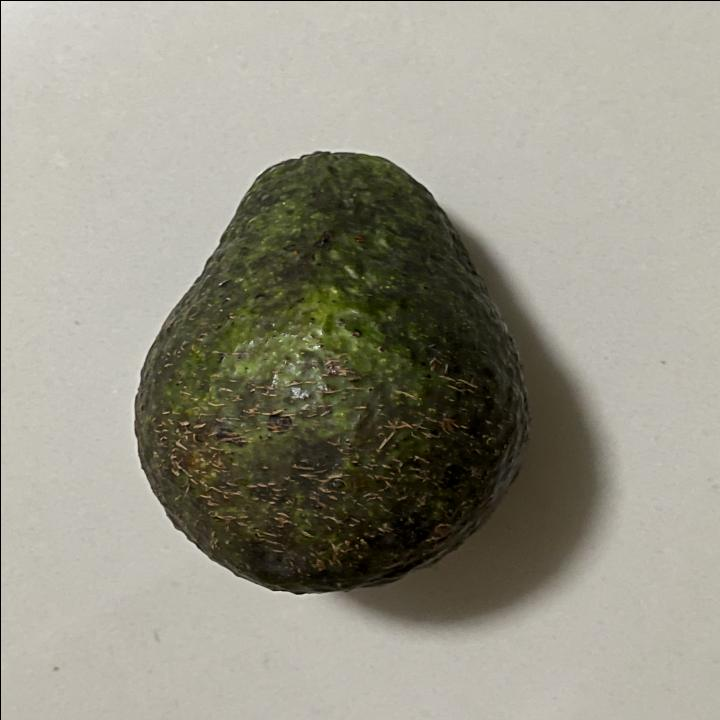Level1: (116, 139, 542, 600)
